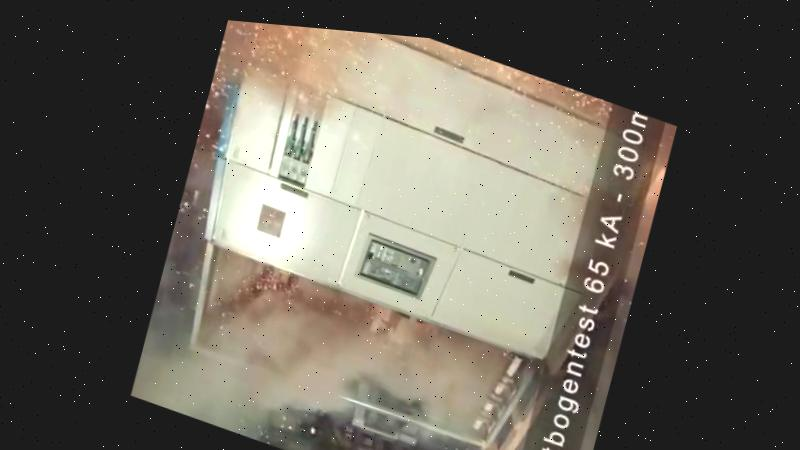fire: (108, 25, 505, 281), (158, 272, 407, 405)
